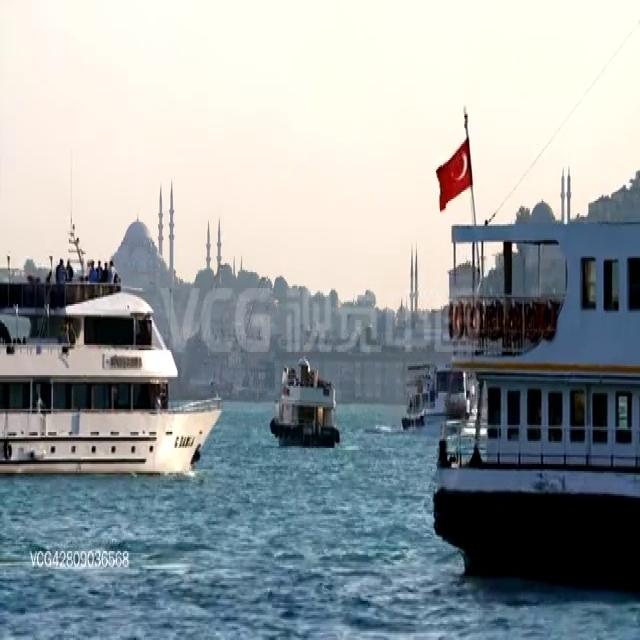houseboat: (266, 349, 338, 450)
passenger ship: (438, 197, 640, 576), (0, 249, 218, 481), (400, 347, 468, 437)
